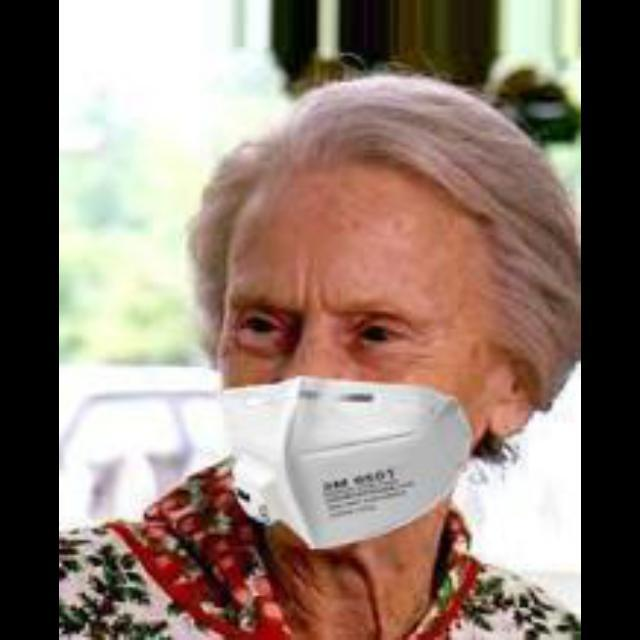suspicion: (155, 111, 571, 566)
